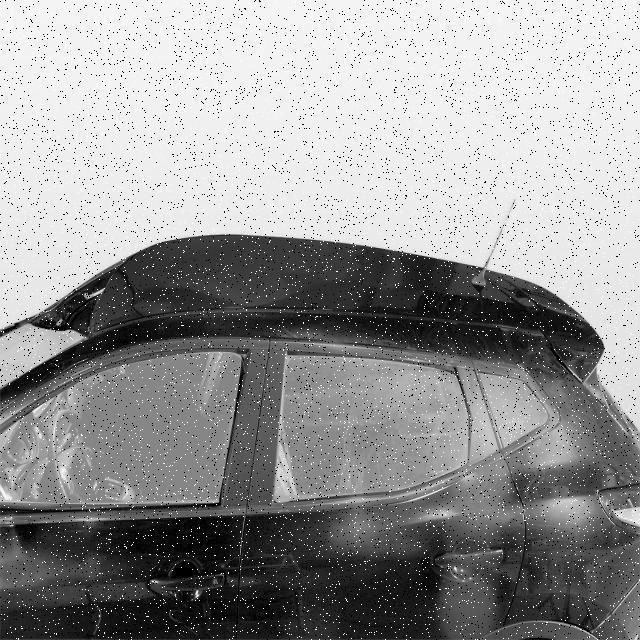roof-dent: (12, 234, 463, 376)
